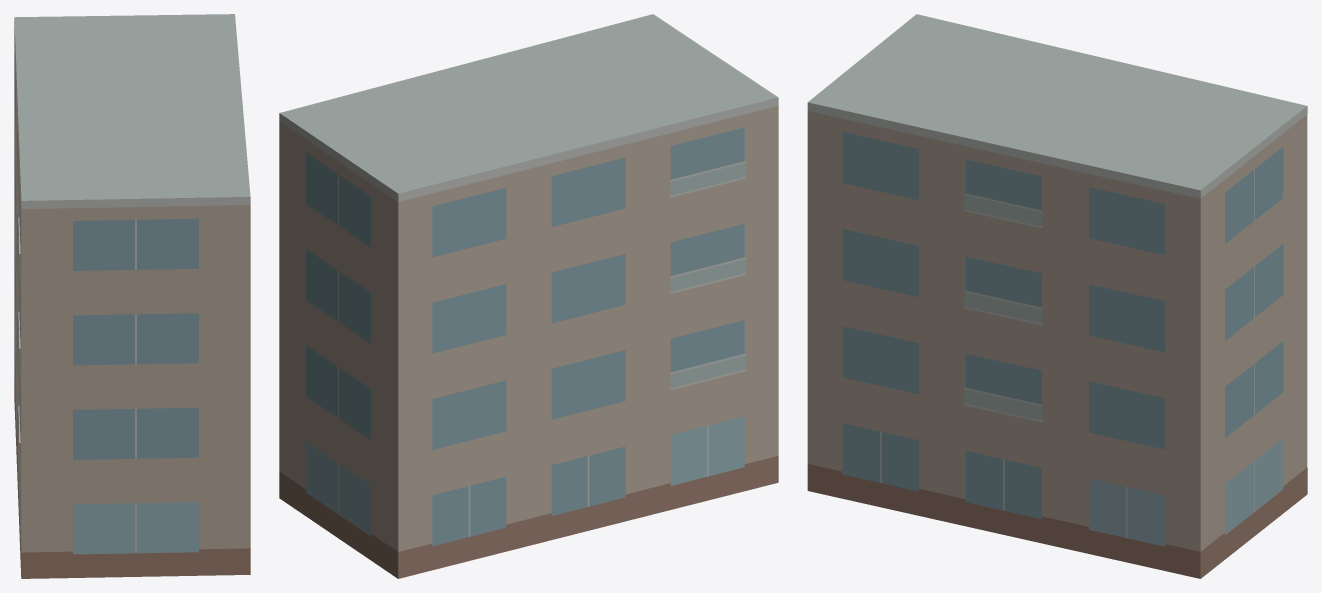
File: survey-upis-33028283.glb
3 views of the same model, side by side, from view 1: azimuth 30°, elevation 25°; view 2: azimuth 150°, elevation 25°; view 3: azimuth 270°, elevation 25° (orthographic). The views are drawn at different scales.
Parts seen in each view (by area): view 1: survey-upis-33028283.tmp; view 2: survey-upis-33028283.tmp; view 3: survey-upis-33028283.tmp.
Boxes of the visible parts, bbox=[...] form: survey-upis-33028283.tmp: bbox=[14, 14, 250, 578]; survey-upis-33028283.tmp: bbox=[279, 14, 778, 578]; survey-upis-33028283.tmp: bbox=[807, 14, 1307, 578].
Bounding box in the file's own units: 10.92 × 11.2 × 13.07.
